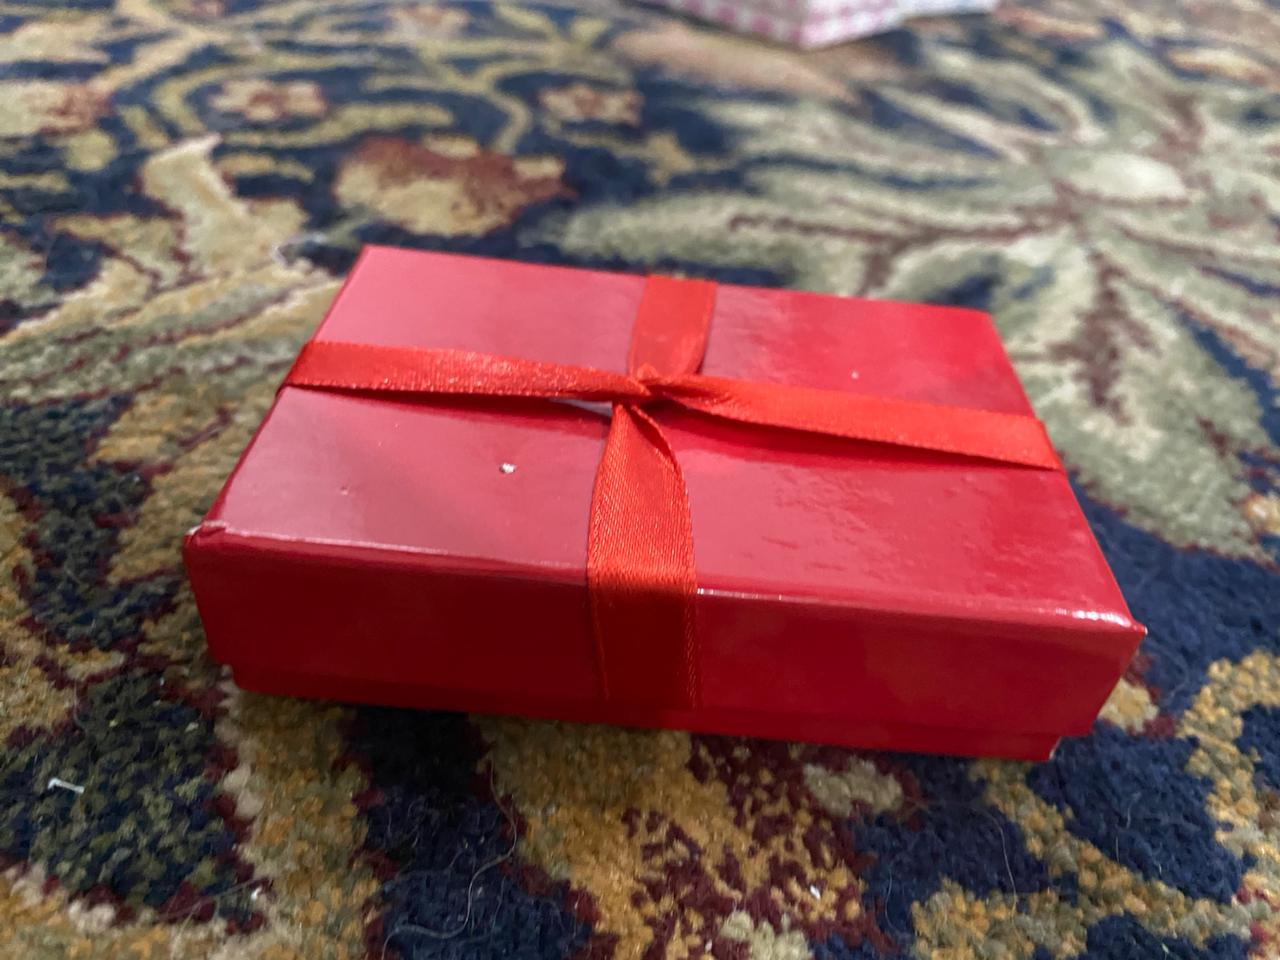Black Box: (165, 234, 1148, 792)
